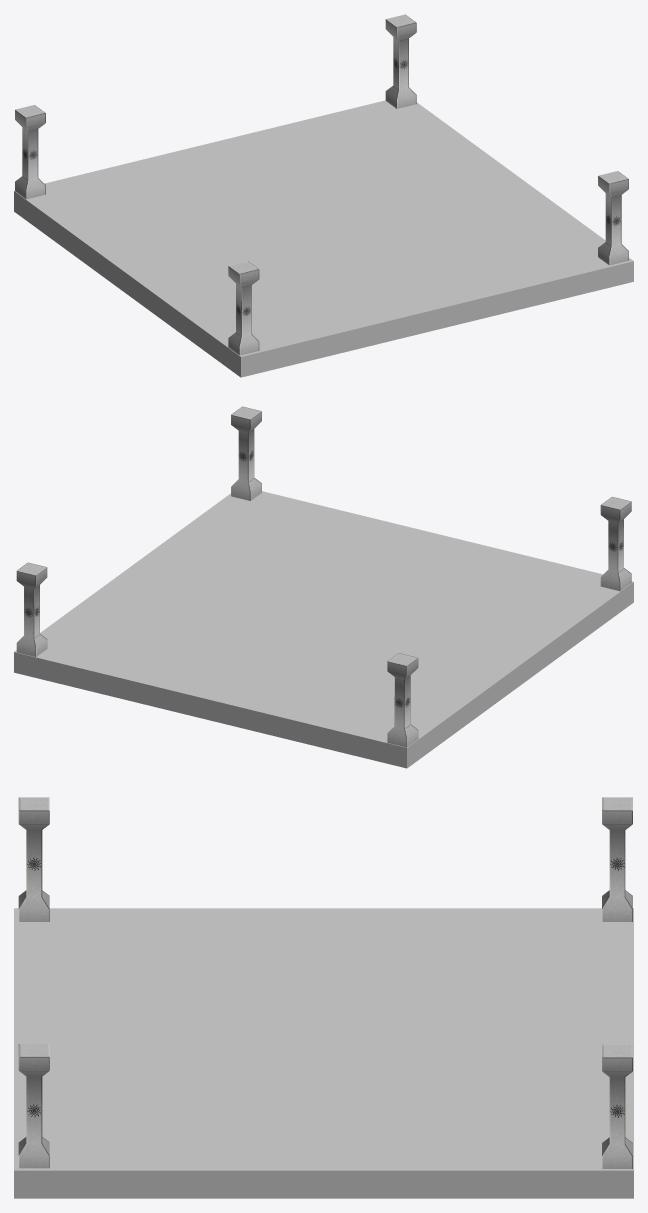
File: field.FBX
The picture shows the model from 3 angles, top to bottom: view 1: azimuth 30°, elevation 25°; view 2: azimuth 150°, elevation 25°; view 3: azimuth 270°, elevation 25°; orthographic projection. The views are drawn at different scales.
Parts seen in each view (by area): view 1: Box008, Box005, Box010, Box011, Box009; view 2: Box008, Box005, Box010, Box009, Box011; view 3: Box008, Box009, Box010, Box005, Box011.
Boxes of the visible parts, box(x1,y1,x2,y2) form: Box008: box(14, 100, 633, 377); Box005: box(15, 105, 45, 199); Box010: box(598, 171, 628, 265); Box011: box(385, 14, 416, 108); Box009: box(228, 261, 259, 355); Box008: box(14, 491, 633, 768); Box005: box(387, 653, 418, 747); Box010: box(231, 406, 261, 500); Box009: box(600, 496, 631, 591); Box011: box(16, 562, 47, 656); Box008: box(14, 908, 633, 1198); Box009: box(18, 797, 49, 921); Box010: box(18, 1044, 49, 1168); Box005: box(602, 797, 632, 921); Box011: box(602, 1044, 632, 1168).
Size of the model in its own units: 787 by 196 by 787.
Materials: 1 (1 with a texture image).
